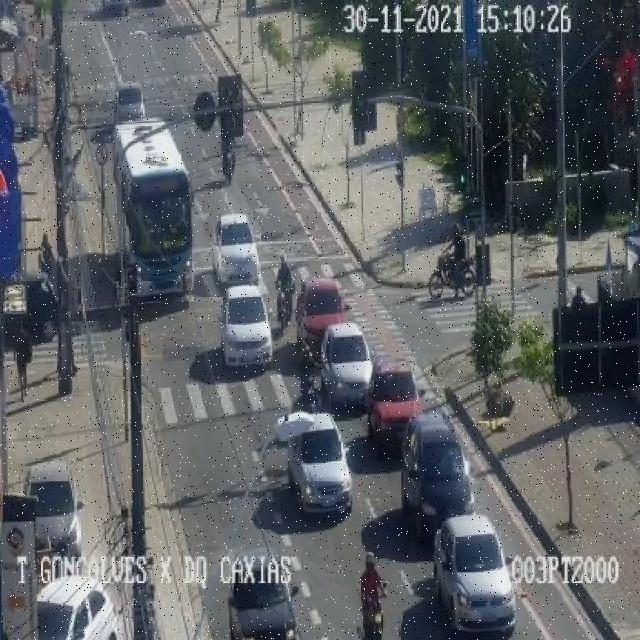Bus: (112, 117, 196, 297)
Car: (433, 514, 516, 638), (289, 412, 354, 520), (226, 549, 297, 640), (22, 462, 86, 559), (35, 574, 120, 640), (368, 355, 427, 450), (318, 321, 376, 410), (219, 286, 275, 367), (297, 278, 352, 350), (213, 214, 262, 282), (114, 82, 148, 126)
Cycle: (426, 247, 476, 300), (272, 278, 296, 330), (359, 598, 386, 640)
Van: (401, 412, 477, 543)
